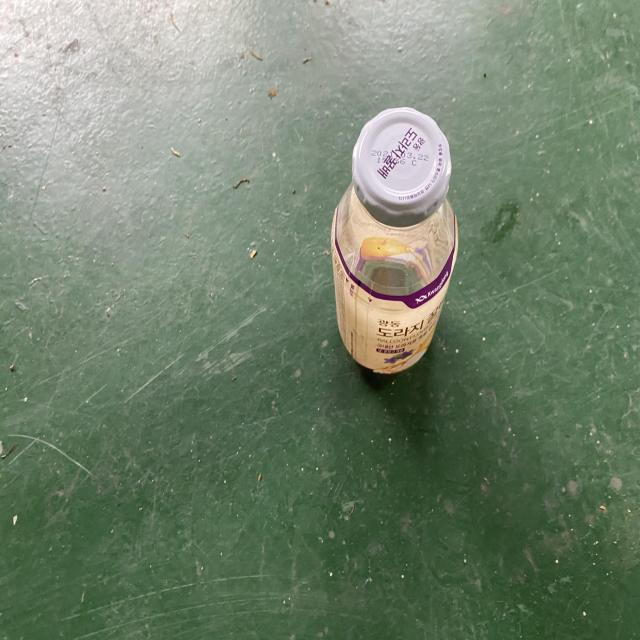glass: (331, 106, 459, 374)
